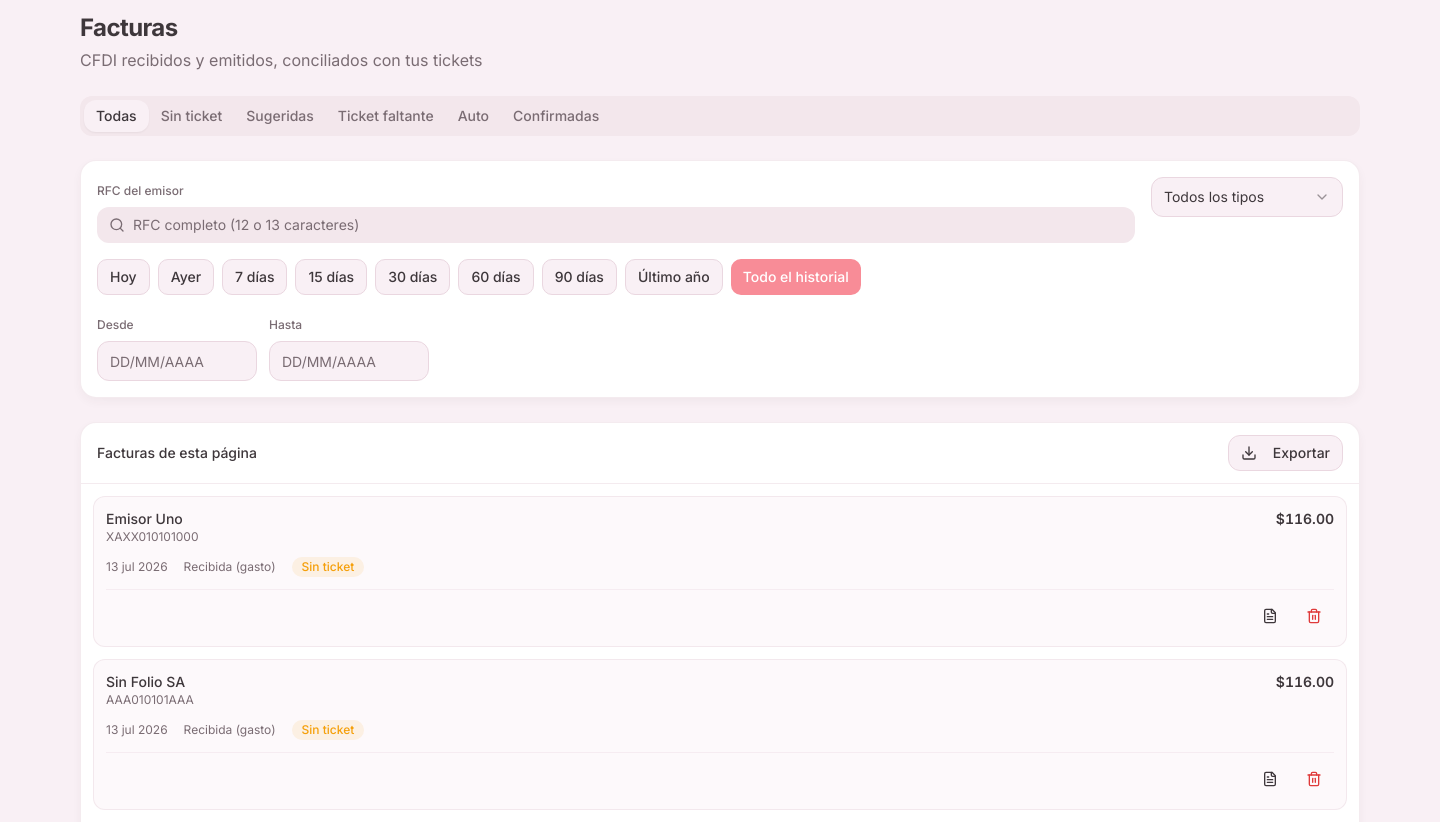
Test: InvoicesPage inventory and UUID safety › does not present issuer name or UUID search as a global filter
Expected: the text "Emisor Uno" is shown, [106,510,183,527]
Expected: the text "Sin Folio SA" is shown, [106,673,185,690]
In the search field labelled "RFC del emisor": (628,225) [133,215,1123,235], type "sin folio"
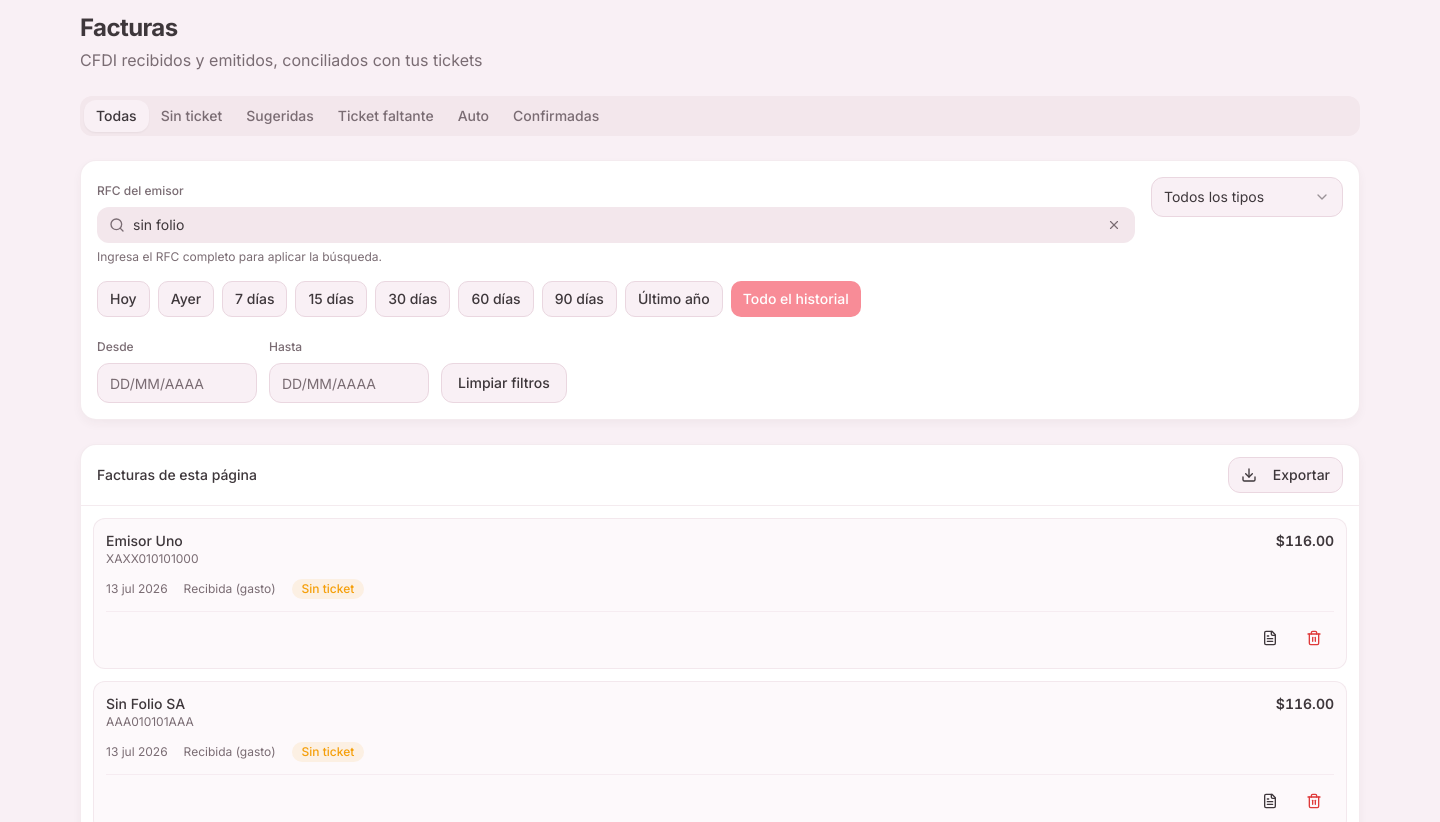
Expected: the text "Sin Folio SA" is shown, [106,695,185,712]
Result: the text "Ingresa el RFC completo para aplicar la búsqueda." is shown at [97,249,382,264]
